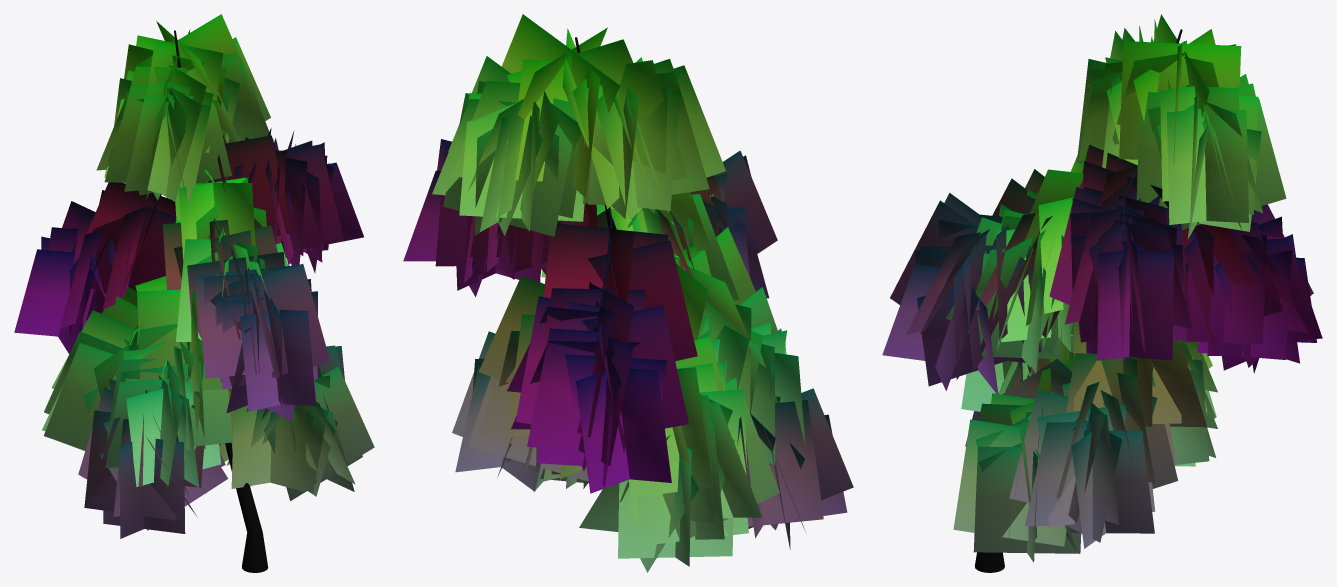
Rendered from URP_P13_Tree_10_LOD_1.fbx.
3 renders of one model, left to right at view 1: azimuth 30°, elevation 25°; view 2: azimuth 150°, elevation 25°; view 3: azimuth 270°, elevation 25°, orthographic. The views are drawn at different scales.
Parts seen in each view (by area): view 1: Tree_10_LOD_1; view 2: Tree_10_LOD_1; view 3: Tree_10_LOD_1.
Boxes of the visible parts, x1,y1,x2,y2 form: Tree_10_LOD_1: (14,14,374,572); Tree_10_LOD_1: (403,14,853,572); Tree_10_LOD_1: (882,14,1322,572).
Bounding box in the file's own units: 371 × 575 × 419.
